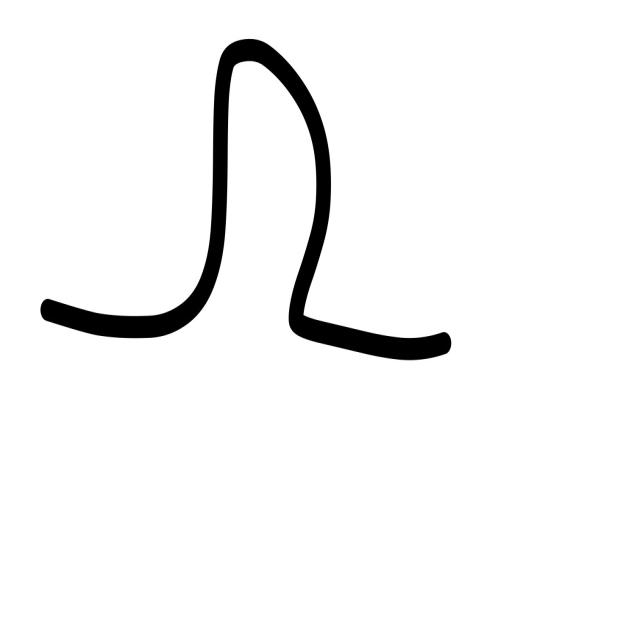ohms: (33, 22, 594, 400)
